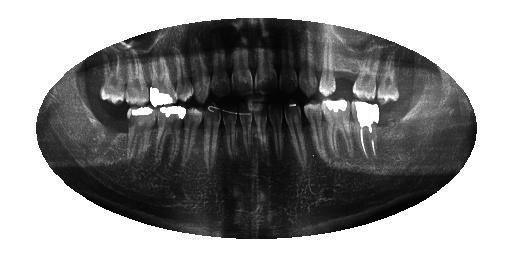i10decay: (223, 107, 239, 162)
i11decay: (205, 102, 223, 174)
i12healthy: (184, 108, 206, 168)
i13healthy: (157, 106, 188, 165)
i14healthy: (128, 104, 158, 167)
i15loss: (97, 105, 128, 160)
i2loss: (379, 102, 409, 155)
i3healthy: (350, 96, 384, 159)
i4healthy: (322, 98, 355, 161)
i5healthy: (305, 100, 328, 163)
i6decay: (284, 102, 309, 170)
i7decay: (268, 102, 283, 161)
i8decay: (254, 112, 268, 160)
i9decay: (239, 112, 254, 160)
u10decay: (212, 19, 231, 96)
u11decay: (192, 20, 212, 104)
u12healthy: (176, 22, 192, 101)
u13healthy: (149, 23, 178, 106)
u14healthy: (126, 32, 149, 106)
u15healthy: (100, 42, 128, 102)
u2healthy: (378, 36, 399, 105)
u3healthy: (352, 26, 377, 100)
u4loss: (334, 24, 352, 95)
u5healthy: (316, 19, 338, 97)
u6healthy: (296, 19, 320, 98)
u7decay: (278, 17, 298, 92)
u8decay: (254, 17, 278, 94)
u9decay: (232, 17, 254, 94)
